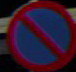No waiting: (4, 4, 70, 66)
